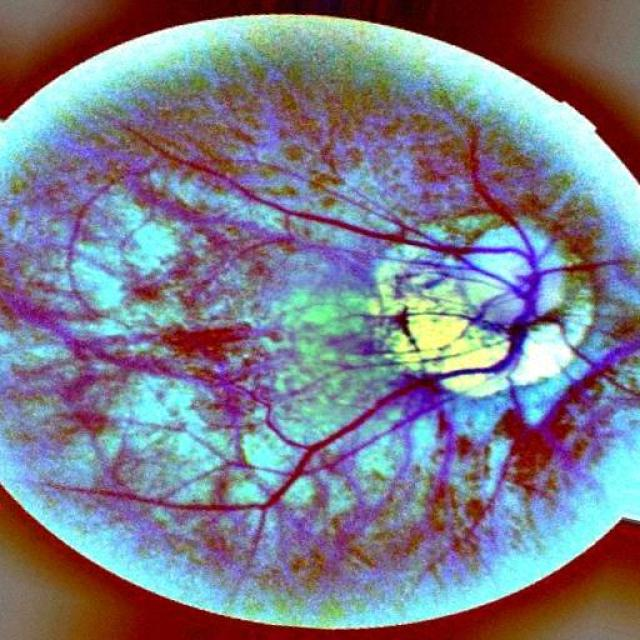Macula: (161, 326, 250, 360)
Nerves: (50, 319, 537, 511), (160, 150, 525, 259), (261, 376, 439, 508), (472, 141, 579, 314), (409, 247, 542, 333), (461, 322, 530, 374), (420, 311, 499, 334)
Optic Disk: (371, 222, 592, 396)
